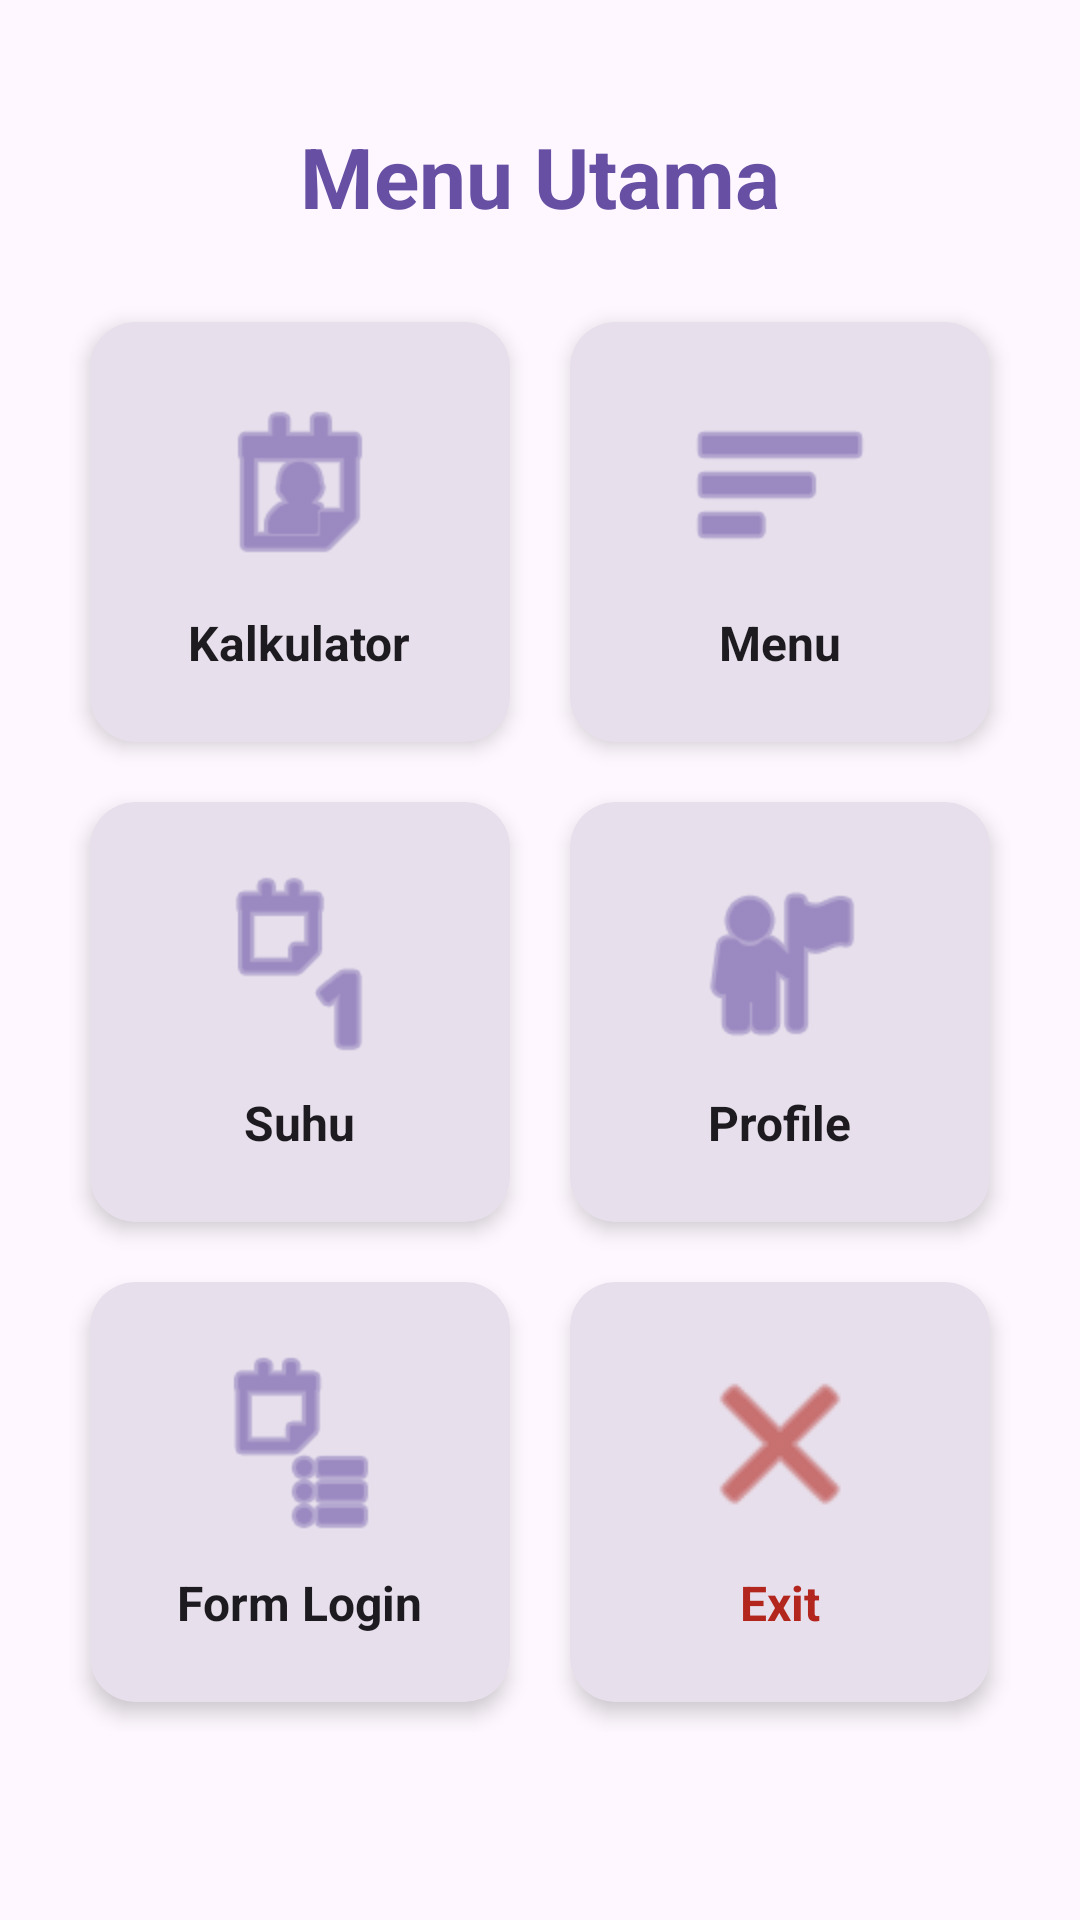

Point at icon controls on the screen. Image size 1080 × 1920, points as point (x, y).
agenda: point (301, 1443)
calendar: point (300, 482)
close clear cancel: point (780, 1444)
day: point (299, 964)
myplaces: point (782, 964)
sort by size: point (780, 485)
